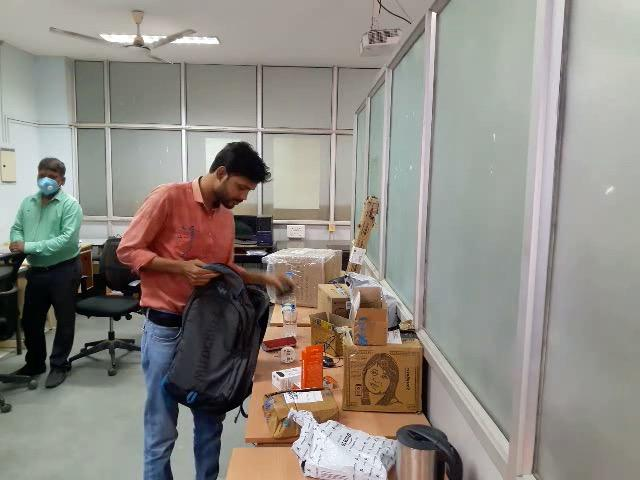shoplifting: (84, 222, 370, 422)
